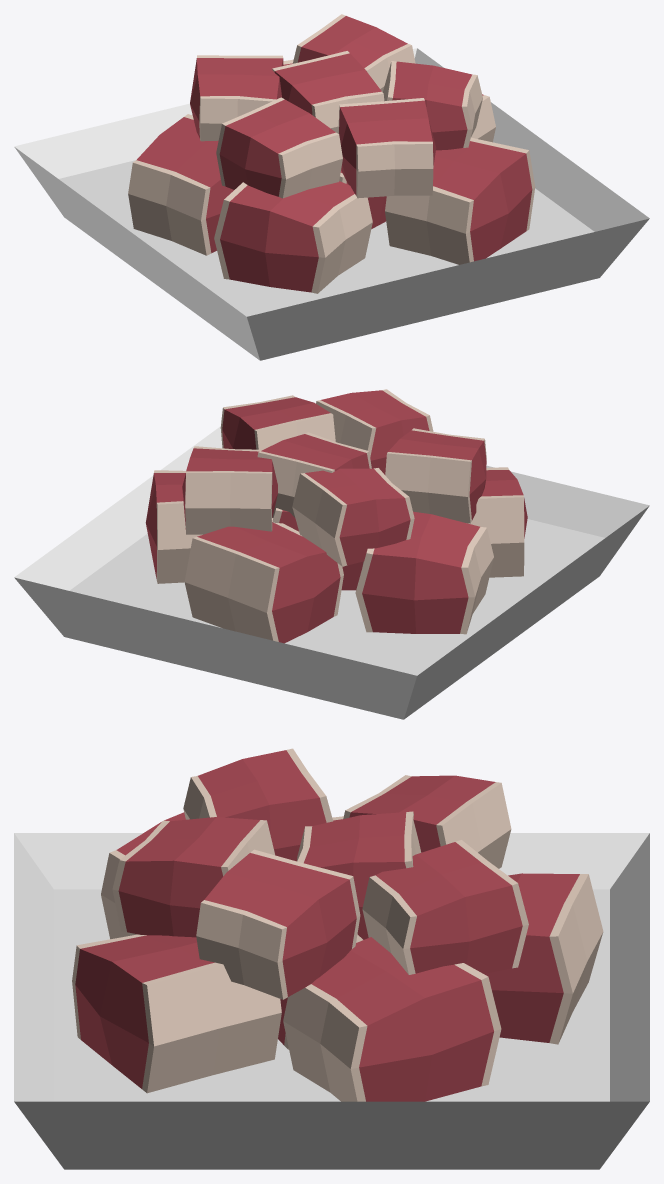
File: Goat Meat Sliced on Plate.fbx
The picture shows the model from 3 angles, top to bottom: view 1: azimuth 30°, elevation 25°; view 2: azimuth 150°, elevation 25°; view 3: azimuth 270°, elevation 25°; orthographic projection. The views are drawn at different scales.
Visible parts, largest first — view 1: Goat Meat on Plate; view 2: Goat Meat on Plate; view 3: Goat Meat on Plate.
Boxes of the visible parts, x1,y1,x2,y2 form: Goat Meat on Plate: (14, 14, 649, 360); Goat Meat on Plate: (14, 389, 649, 719); Goat Meat on Plate: (14, 748, 649, 1169).
Bounding box in the file's own units: 120 × 46.96 × 120.
